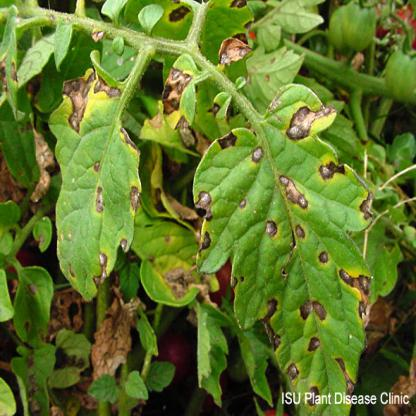tomato leaf bacterial spot: (179, 94, 377, 392), (39, 50, 148, 332), (122, 203, 213, 318), (152, 45, 219, 132)
